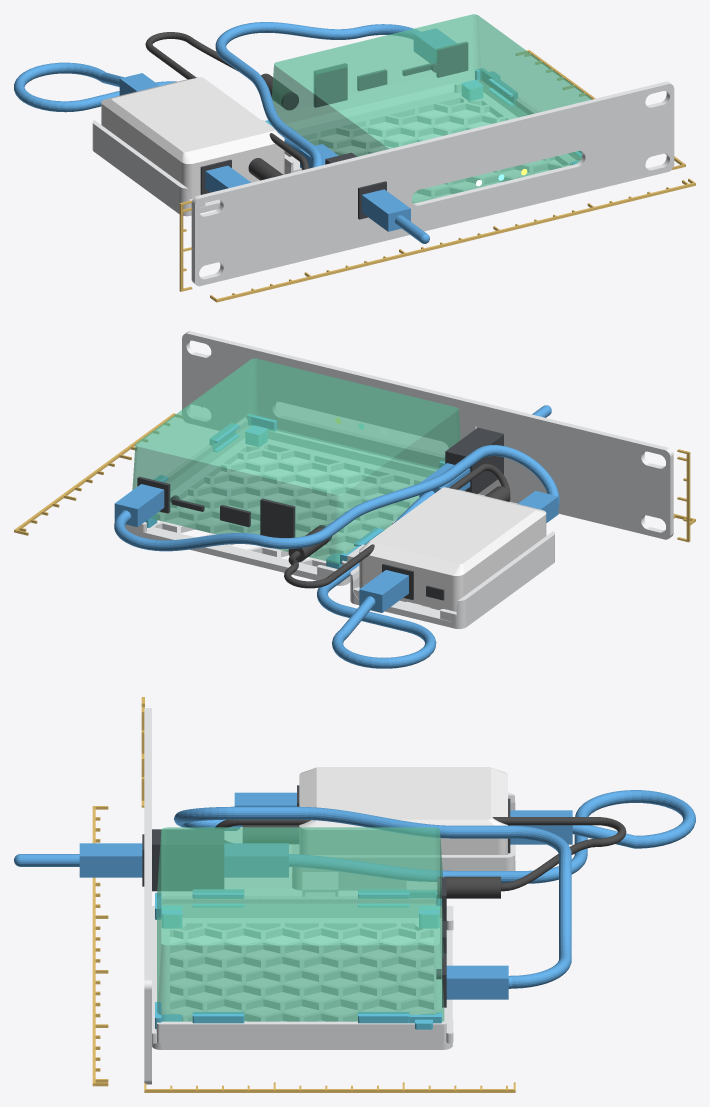
Rendered from home-assistant-green-rack-front_ethernet-no_shutter.glb.
The picture shows the model from 3 angles, top to bottom: view 1: azimuth 30°, elevation 25°; view 2: azimuth 150°, elevation 25°; view 3: azimuth 270°, elevation 25°; orthographic projection. The views are drawn at different scales.
Visible parts, largest first — view 1: White rack mount, Home Assistant Green, TP-Link TL-PD30G-M2, Green tray — standard, Internal Ethernet cable, Front keystone → TP-Link PoE jumper, 10 mm dimension rulers, Home Assistant Green connector faces, TP-Link cradle side walls, DC cable, Green retention — segmented rails + rear latch, TP-Link cradle floor (+2 smaller); view 2: Home Assistant Green, White rack mount, Green tray — standard, TP-Link TL-PD30G-M2, Internal Ethernet cable, Front keystone → TP-Link PoE jumper, TP-Link cradle side walls, Home Assistant Green connector faces, DC cable, Green retention — segmented rails + rear latch, 10 mm dimension rulers, Front keystone coupler (+2 smaller); view 3: Home Assistant Green, Green tray — standard, TP-Link TL-PD30G-M2, Front keystone → TP-Link PoE jumper, Internal Ethernet cable, DC cable, Green retention — segmented rails + rear latch, Front keystone coupler, White rack mount, 10 mm dimension rulers, TP-Link cradle side walls, Home Assistant Green connector faces (+1 smaller).
Boxes of the visible parts, x1,y1,x2,y2 form: White rack mount: [191, 81, 674, 286]; Home Assistant Green: [272, 14, 591, 203]; TP-Link TL-PD30G-M2: [101, 77, 284, 199]; Green tray — standard: [284, 78, 581, 202]; Internal Ethernet cable: [205, 22, 456, 192]; Front keystone → TP-Link PoE jumper: [14, 62, 429, 243]; 10 mm dimension rulers: [179, 50, 695, 302]; Home Assistant Green connector faces: [281, 42, 468, 110]; TP-Link cradle side walls: [92, 120, 293, 209]; DC cable: [145, 32, 309, 180]; Green retention — segmented rails + rear latch: [265, 68, 582, 164]; TP-Link cradle floor: [92, 145, 220, 216]; Home Assistant Green: [132, 358, 460, 563]; White rack mount: [182, 331, 673, 561]; Green tray — standard: [125, 418, 436, 585]; TP-Link TL-PD30G-M2: [359, 487, 546, 611]; Internal Ethernet cable: [114, 445, 559, 551]; Front keystone → TP-Link PoE jumper: [317, 405, 551, 668]; TP-Link cradle side walls: [350, 531, 554, 622]; Home Assistant Green connector faces: [137, 476, 331, 541]; DC cable: [284, 463, 510, 588]; Green retention — segmented rails + rear latch: [145, 414, 445, 568]; 10 mm dimension rulers: [14, 413, 695, 542]; Front keystone coupler: [445, 427, 503, 493]; Home Assistant Green: [157, 827, 444, 1021]; Green tray — standard: [152, 896, 453, 1049]; TP-Link TL-PD30G-M2: [299, 767, 507, 854]; Front keystone → TP-Link PoE jumper: [14, 790, 695, 883]; Internal Ethernet cable: [174, 792, 571, 999]; DC cable: [214, 817, 626, 898]; Green retention — segmented rails + rear latch: [155, 889, 441, 1029]; Front keystone coupler: [142, 829, 223, 891]; White rack mount: [144, 708, 436, 1084]; 10 mm dimension rulers: [92, 697, 515, 1092]; TP-Link cradle side walls: [292, 792, 515, 883]; Home Assistant Green connector faces: [436, 876, 446, 1007].
Size of what is drawn, in the model's own units: 268 by 44.45 by 264.
